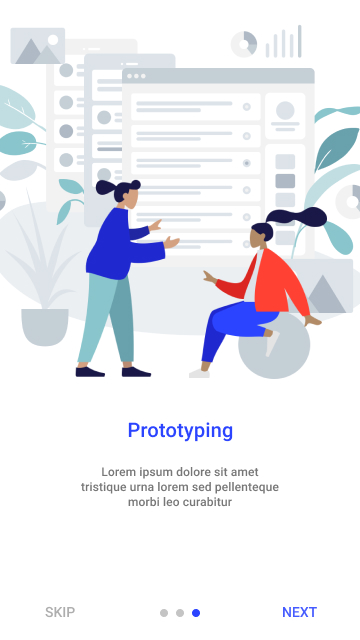Image: (1, 25, 360, 380)
PageIndicator: (160, 608, 201, 618)
Text: (81, 466, 280, 507), (129, 422, 233, 442), (283, 606, 318, 618), (45, 606, 76, 618)
